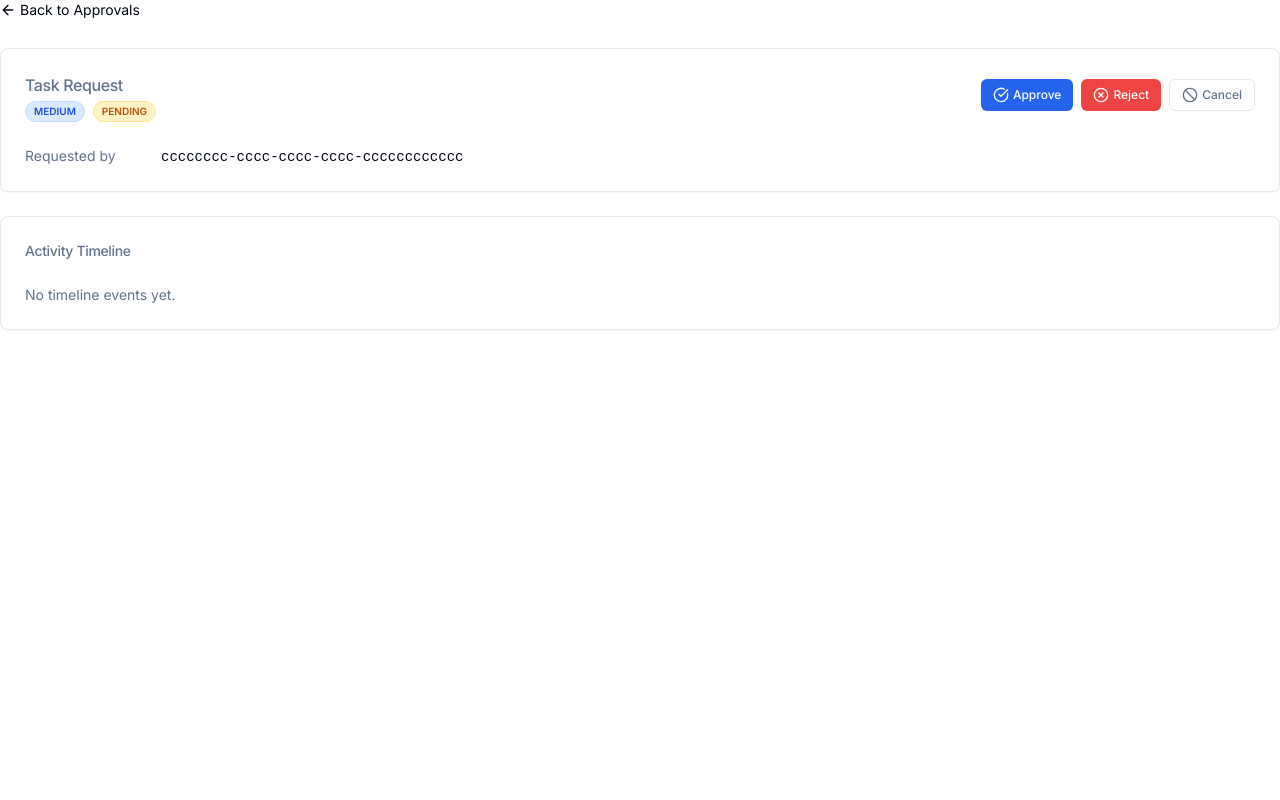
it: ApprovalDetailPage › approve dialog › opens approve dialog on approve button click
Click the button with test id "approve-btn" at (1027, 95), box [981,79,1073,111]
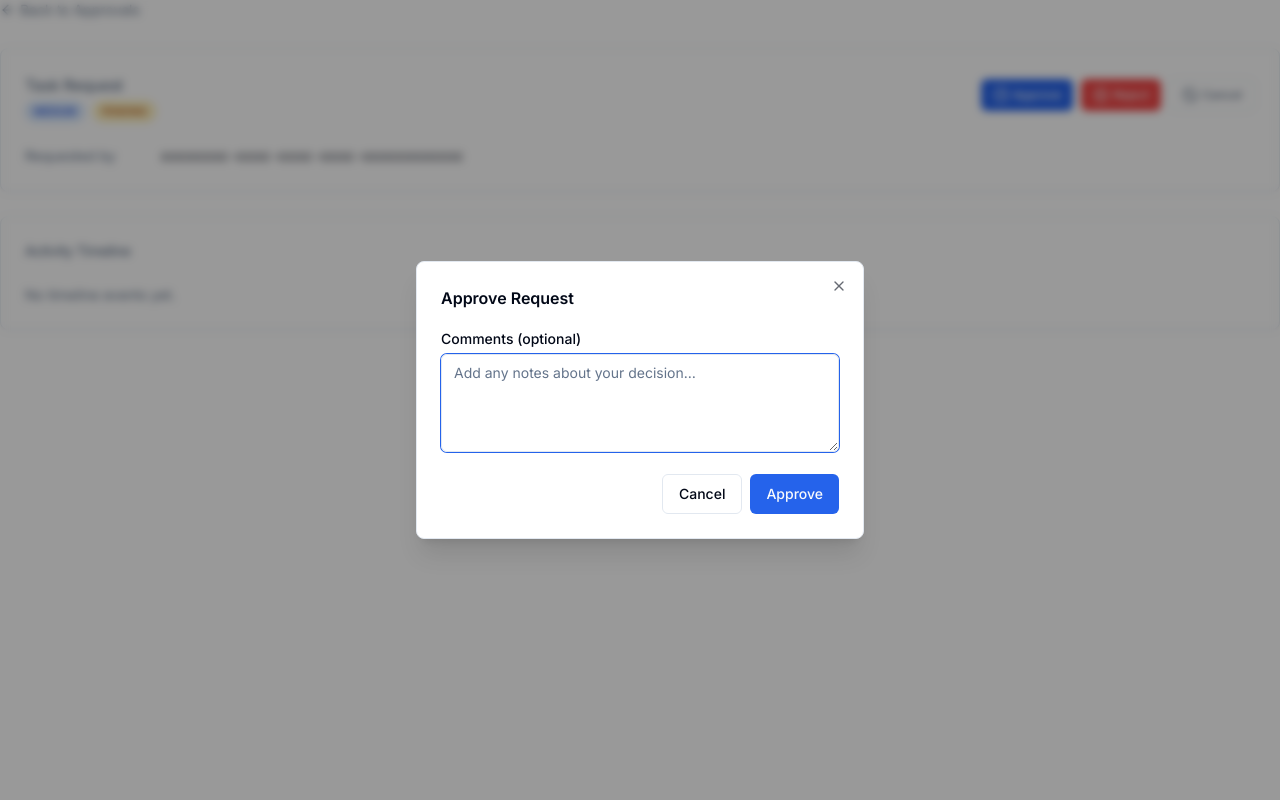
Result: the dialog with test id "approve-dialog" is shown at [416,261,864,539]
